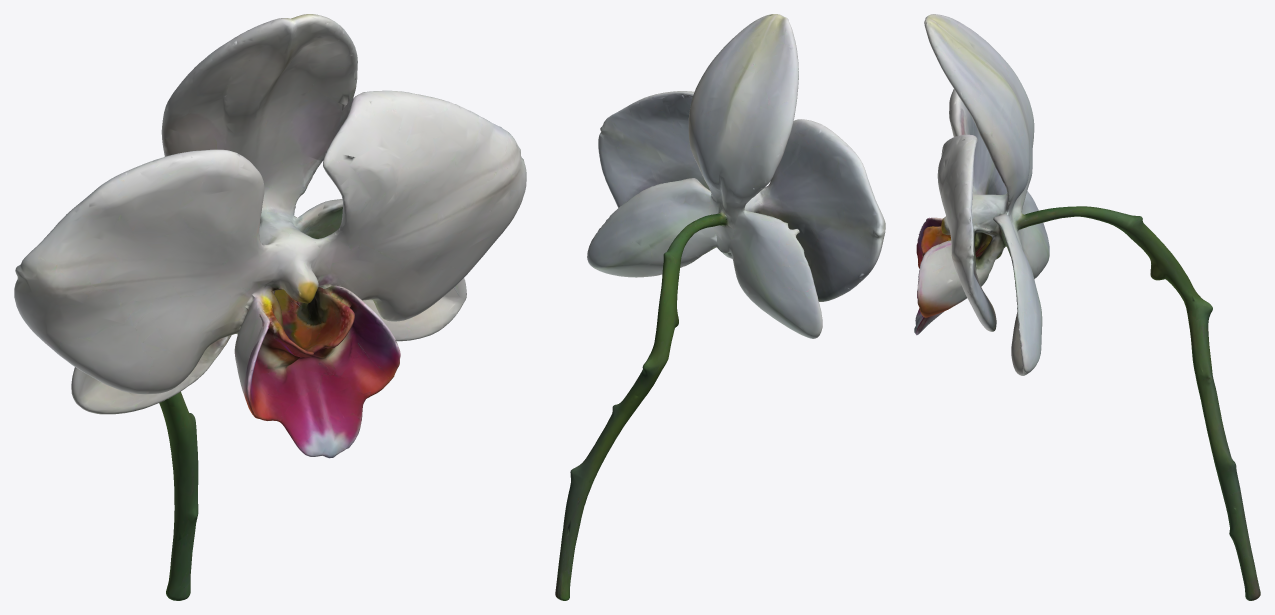
The model's file is apex-flora-orquidea.glb.
3 views of the same model, side by side, from view 1: azimuth 30°, elevation 25°; view 2: azimuth 150°, elevation 25°; view 3: azimuth 270°, elevation 25° (orthographic). The views are drawn at different scales.
Size of the model in its own units: 1.29 by 2 by 1.15.
Materials: 1 (1 with a texture image).
